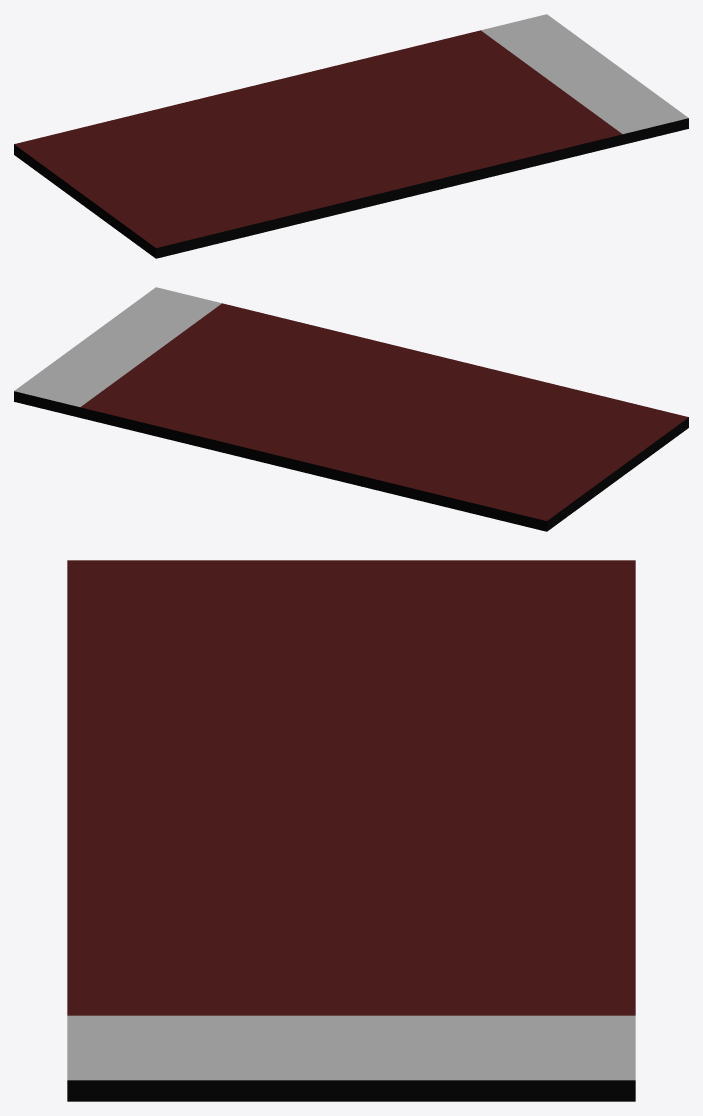
The model's file is foundation.fbx.
3 renders of one model, top to bottom at view 1: azimuth 30°, elevation 25°; view 2: azimuth 150°, elevation 25°; view 3: azimuth 270°, elevation 25°, orthographic. The views are drawn at different scales.
Parts seen in each view (by area): view 1: pCube49; view 2: pCube49; view 3: pCube49.
Part boxes in pixels (x1=…): pCube49: x1=14, y1=14, x2=688, y2=258; pCube49: x1=14, y1=287, x2=688, y2=531; pCube49: x1=67, y1=560, x2=635, y2=1101.
Size of the model in its own units: 25.02 by 0.4783 by 11.55.
